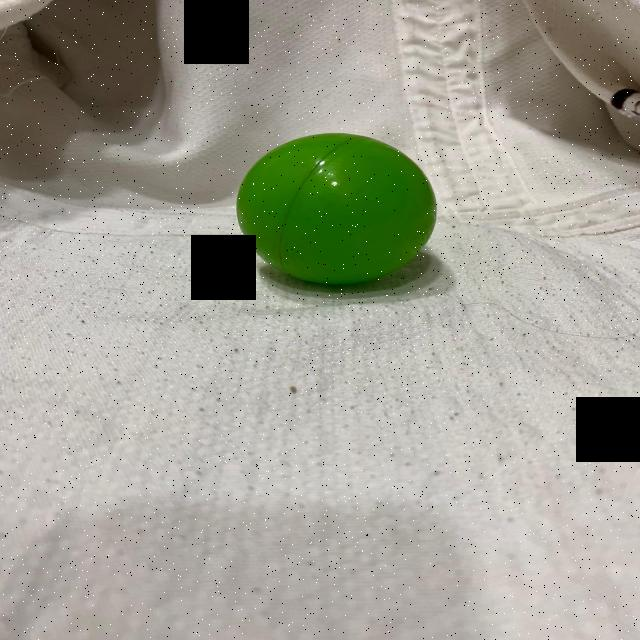ball: (232, 129, 438, 287)
